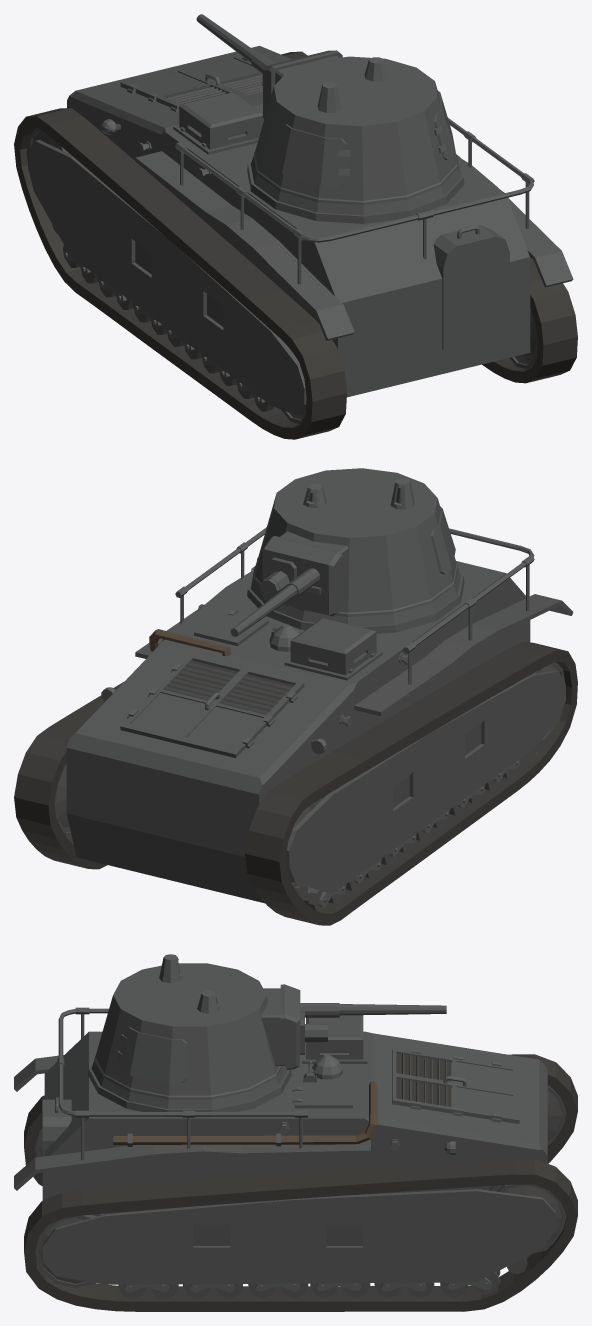
The model's file is newc-leichttraktor.glb.
3 views of the same model, one above another, from view 1: azimuth 30°, elevation 25°; view 2: azimuth 150°, elevation 25°; view 3: azimuth 270°, elevation 25° (orthographic). The views are drawn at different scales.
Visible parts, largest first — view 1: Hull, TurretMesh, TracksLeft, TracksRight, GunMesh, SuspensionLeft, Wheel_32; view 2: Hull, TurretMesh, TracksLeft, TracksRight, GunMesh, SuspensionLeft, Wheel_18; view 3: Hull, TracksRight, TurretMesh, GunMesh, TracksLeft, SuspensionRight, Wheel_18, Wheel_32, Wheel_2.
Boxes of the visible parts, x1,y1,x2,y2 form: Hull: (28,46,573,415); TurretMesh: (247,55,464,223); TracksLeft: (14,108,346,439); TracksRight: (281,51,577,383); GunMesh: (196,14,342,119); SuspensionLeft: (63,249,265,404); Wheel_32: (509,307,537,369); Hull: (66,527,573,903); TurretMesh: (247,468,464,633); TracksLeft: (245,641,577,925); TracksRight: (14,681,124,869); GunMesh: (230,535,342,636); SuspensionLeft: (318,759,519,907); Wheel_18: (54,763,70,832); Hull: (14,1007,555,1284); TracksRight: (24,1159,577,1311); TurretMesh: (88,954,291,1116); GunMesh: (280,984,446,1069); TracksLeft: (24,1054,577,1186); SuspensionRight: (124,1277,491,1292); Wheel_18: (489,1184,566,1253); Wheel_32: (35,1213,103,1288); Wheel_2: (547,1085,566,1146).
Bounding box in the file's own units: 1.8 × 1.94 × 3.57.
Materials: 1 (1 with a texture image).
